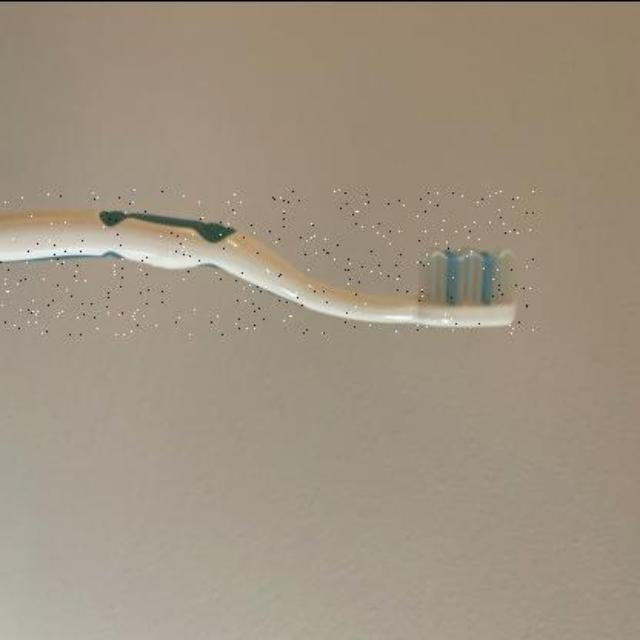toothbrush: (1, 188, 534, 334)
